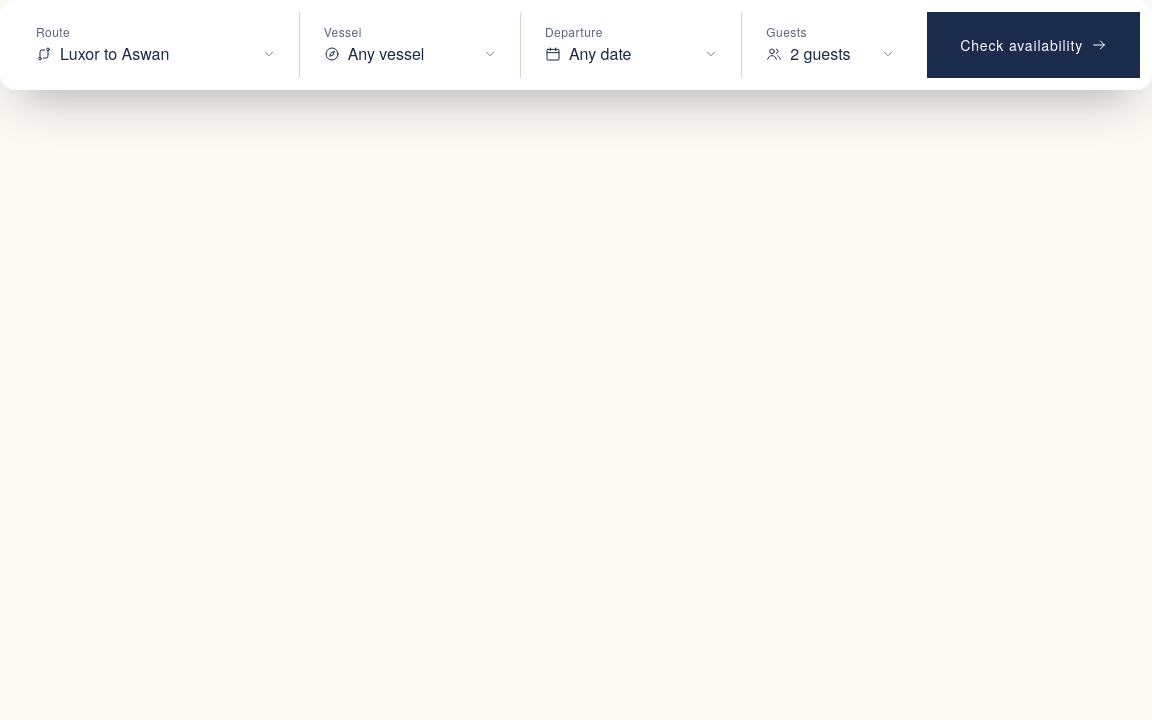
Test: CruiseSearch (COMP-CruiseSearch, ADR-012) › closes its popover with Escape
Click the button "Vessel Any vessel". click: [410, 45]
box: 300,12 -> 521,78
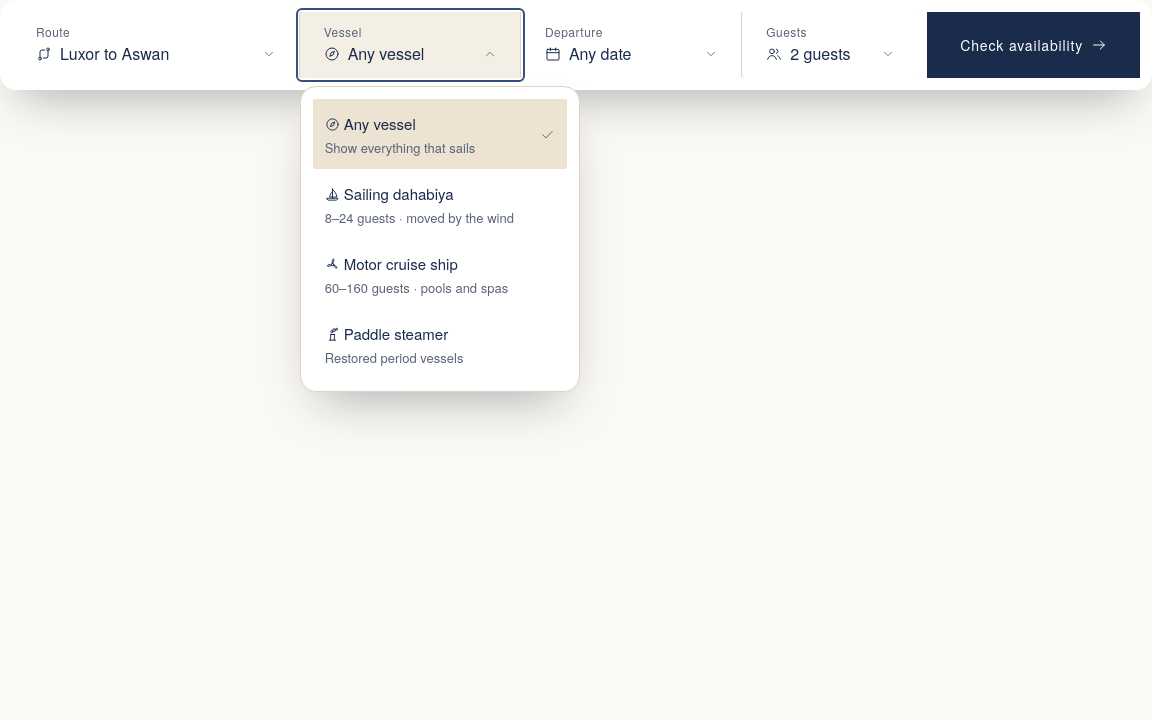
Expected: the dialog is shown, 300,86 -> 580,392
Press Escape
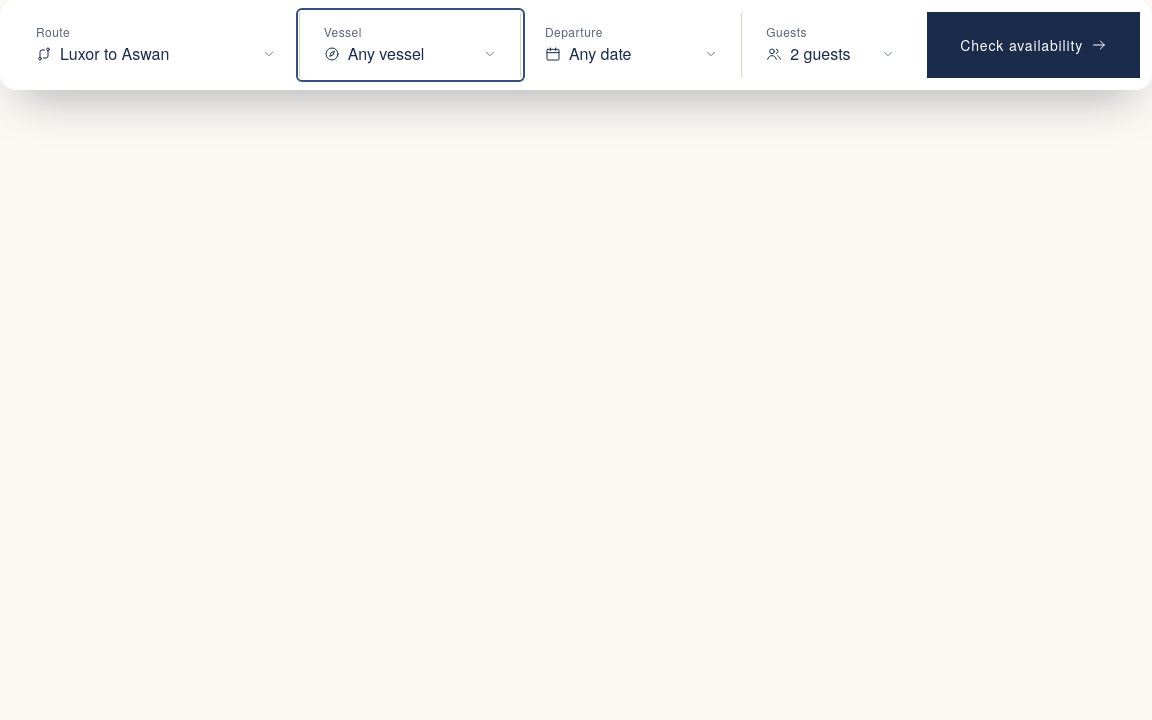
Expected: the dialog is gone
